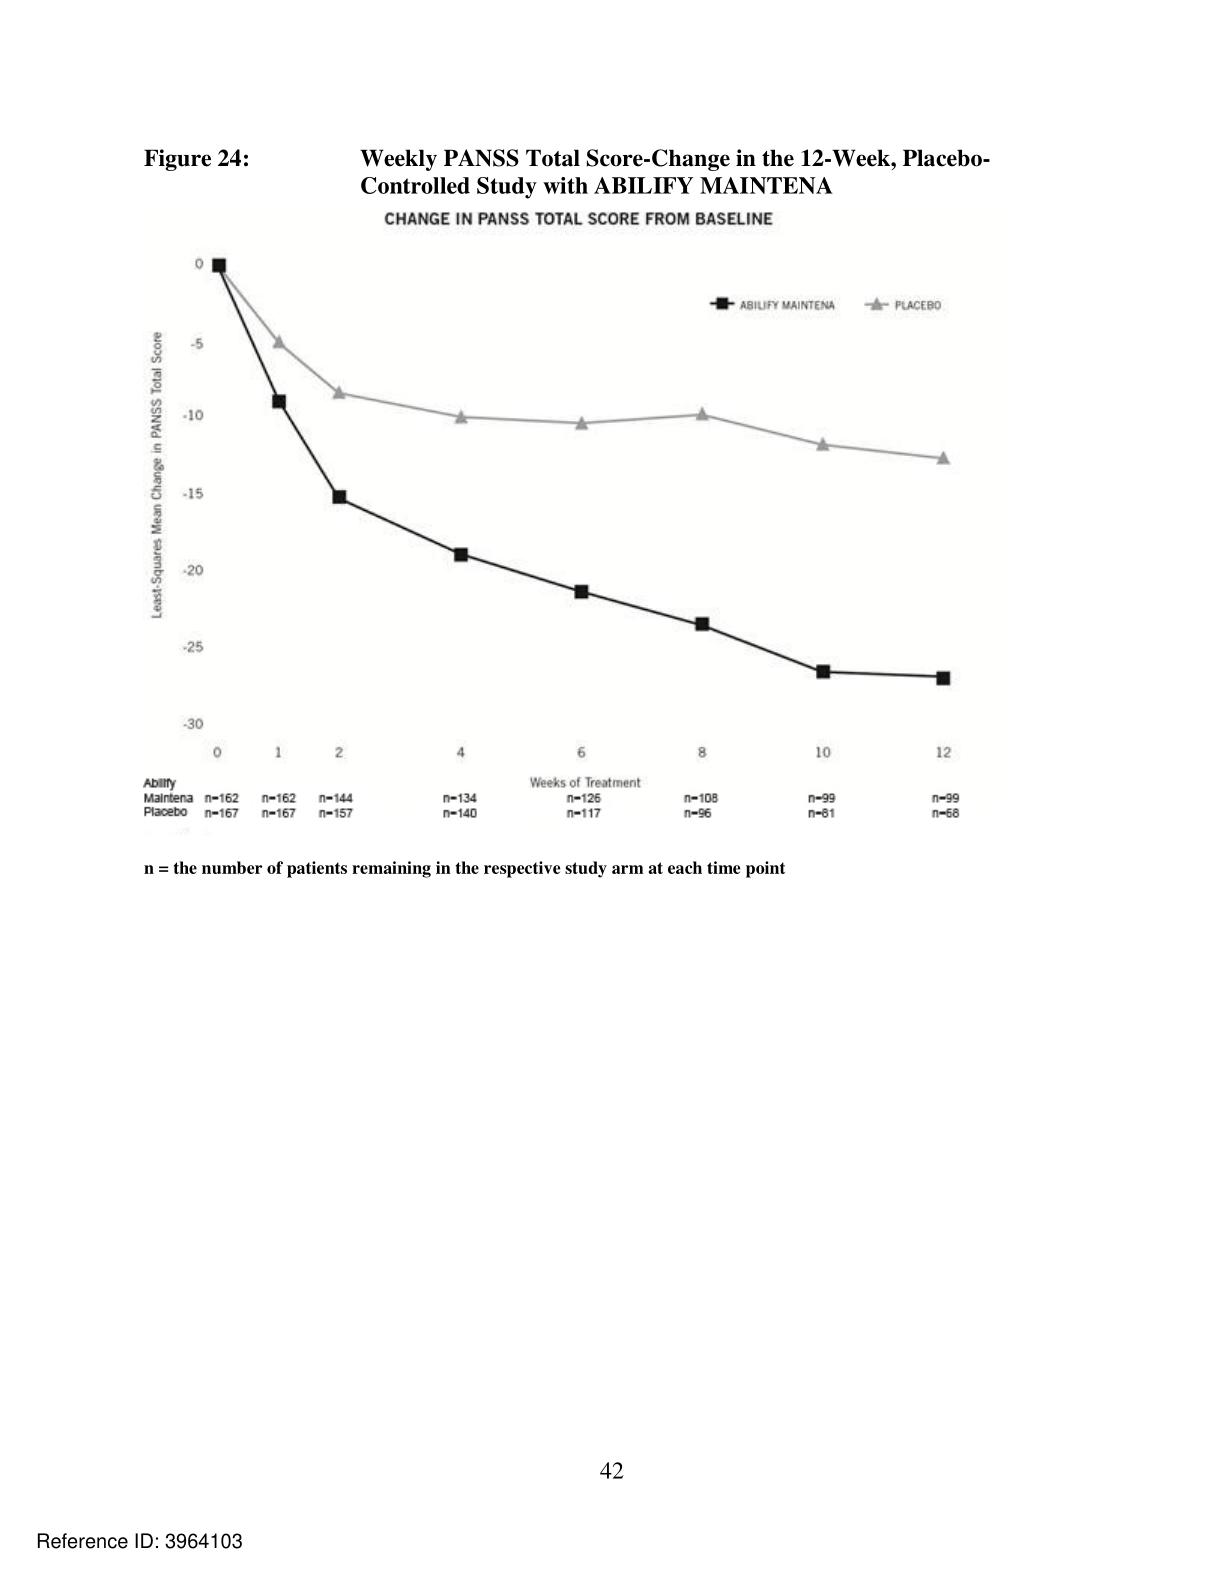nolines: (138, 773, 963, 824)
